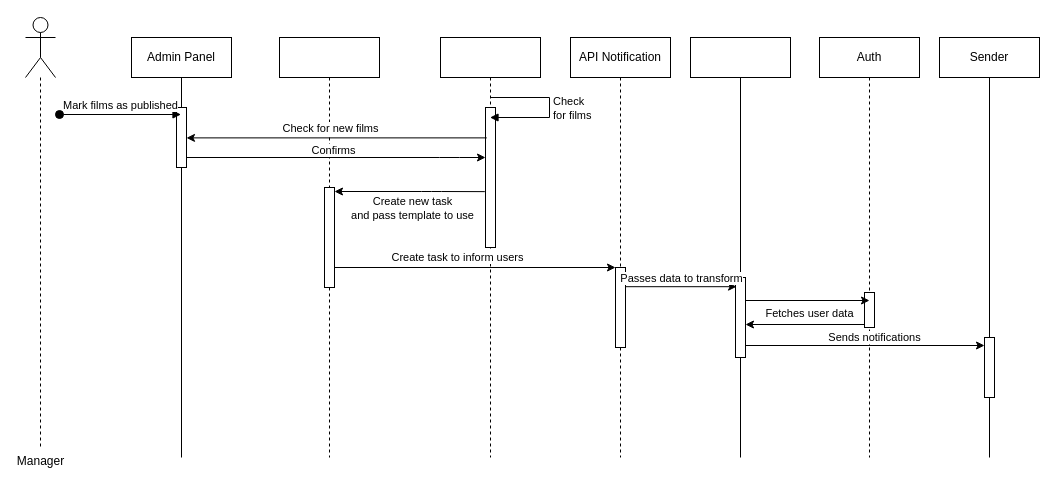
Image size: 1057x486. Some labels were removed from this diagram. Each missing label, with the box of its shape:
Enricher: (690, 36, 790, 458)
Notifications generator: (278, 36, 380, 458)
Scheduler: (440, 36, 540, 458)
